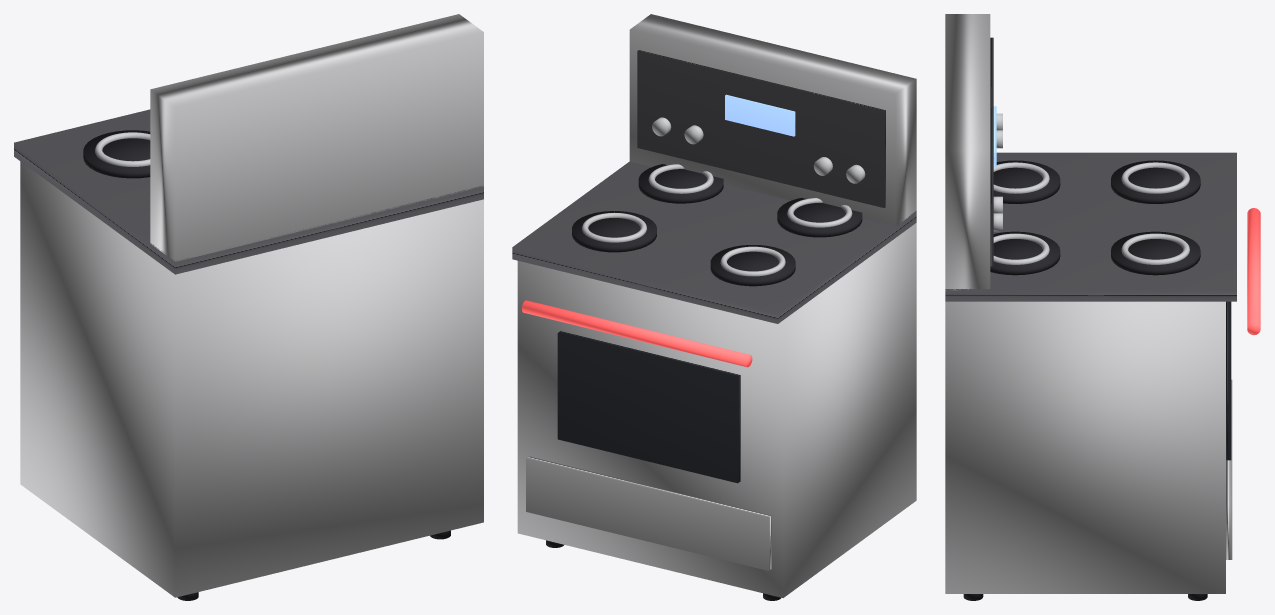
Rendered from range.glb.
The picture shows the model from 3 angles, left to right: view 1: azimuth 30°, elevation 25°; view 2: azimuth 150°, elevation 25°; view 3: azimuth 270°, elevation 25°; orthographic projection. The views are drawn at different scales.
Parts seen in each view (by area): view 1: oven, guard, cooktop, burner, coil; view 2: oven, cooktop, guard_face, window, guard, drawer, handle, burner, burner.001, burner.002, burner.003, clock (+4 smaller); view 3: oven, cooktop, guard, burner, burner.001, burner.003, burner.002, handle, window, guard_face, coil.001, coil (+3 smaller).
Boxes of the visible parts, bbox=[...] form: oven: bbox=[20, 161, 483, 597]; guard: bbox=[150, 14, 483, 261]; cooktop: bbox=[14, 109, 483, 274]; burner: bbox=[83, 130, 150, 178]; coil: bbox=[95, 132, 150, 166]; oven: bbox=[517, 223, 916, 597]; cooktop: bbox=[512, 161, 916, 323]; guard_face: bbox=[637, 50, 885, 207]; window: bbox=[557, 331, 740, 483]; guard: bbox=[629, 14, 916, 226]; drawer: bbox=[526, 456, 771, 570]; handle: bbox=[522, 300, 752, 367]; burner: bbox=[710, 245, 795, 286]; burner.001: bbox=[572, 211, 656, 252]; burner.002: bbox=[777, 198, 862, 237]; burner.003: bbox=[638, 164, 723, 203]; clock: bbox=[725, 94, 795, 136]; oven: bbox=[945, 301, 1225, 593]; cooktop: bbox=[945, 152, 1236, 301]; guard: bbox=[945, 14, 990, 290]; burner: bbox=[1111, 160, 1200, 203]; burner.001: bbox=[1111, 231, 1200, 275]; burner.003: bbox=[990, 231, 1060, 275]; burner.002: bbox=[993, 160, 1060, 203]; handle: bbox=[1247, 208, 1260, 335]; window: bbox=[1226, 301, 1231, 460]; guard_face: bbox=[990, 37, 993, 266]; coil.001: bbox=[1121, 233, 1189, 264]; coil: bbox=[1121, 162, 1189, 193].
Size of what is drawn, in the model's own units: 1.15 by 1.8 by 1.12.
